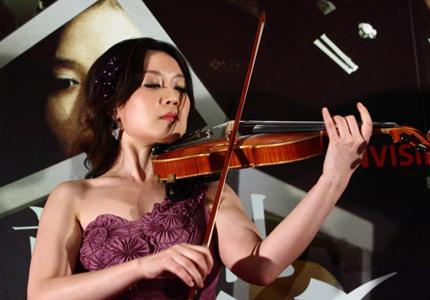person: (27, 38, 374, 300)
